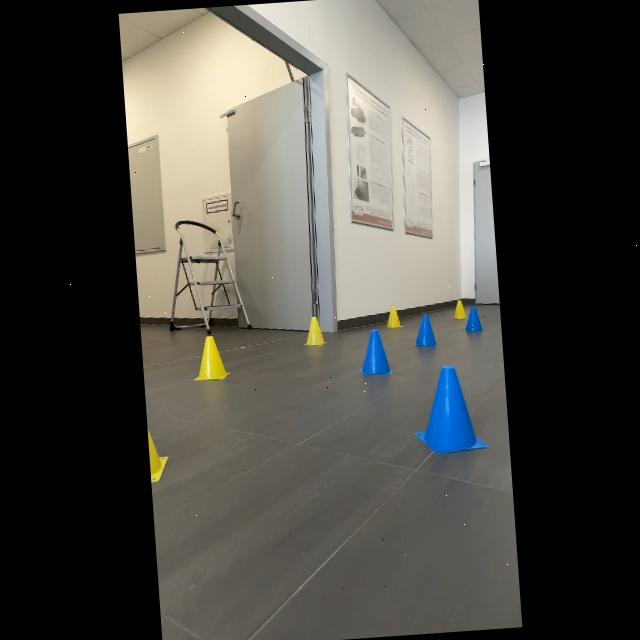blue_cone: (398, 353, 500, 462), (350, 324, 394, 383)
yellow_cone: (185, 324, 232, 388), (296, 306, 328, 356)
